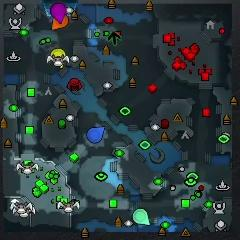p1: (88, 127, 105, 143)
p2: (133, 208, 150, 225)
p3: (51, 3, 67, 24)
p4: (50, 49, 66, 68)
p5: (51, 14, 69, 30)
x4Clone: (108, 30, 121, 46)
